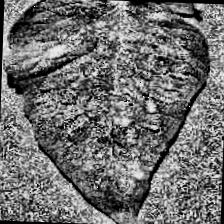spider mites: (0, 0, 211, 224)
